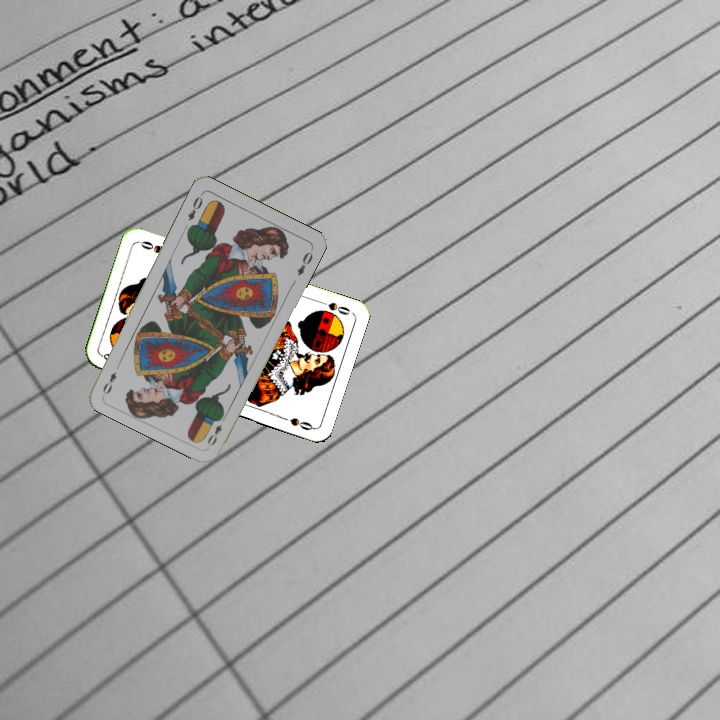EO: (203, 411, 228, 449), (184, 189, 206, 223)
SO: (315, 297, 354, 317)
